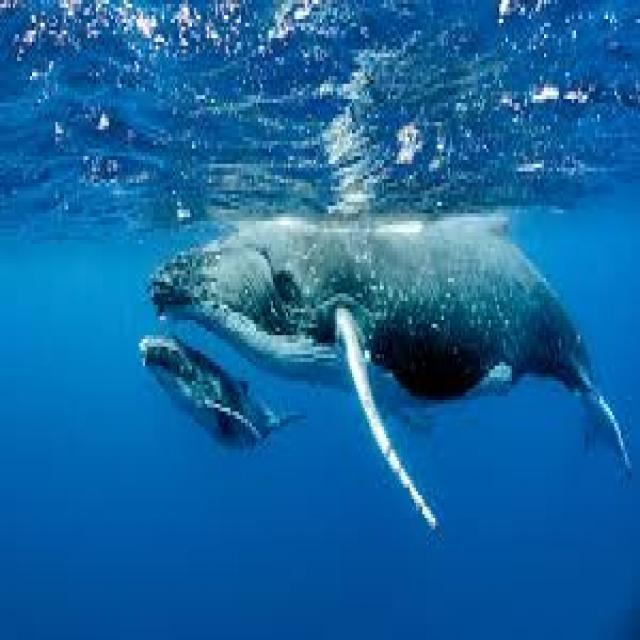blue_whale: (145, 183, 636, 468), (106, 308, 288, 500)
